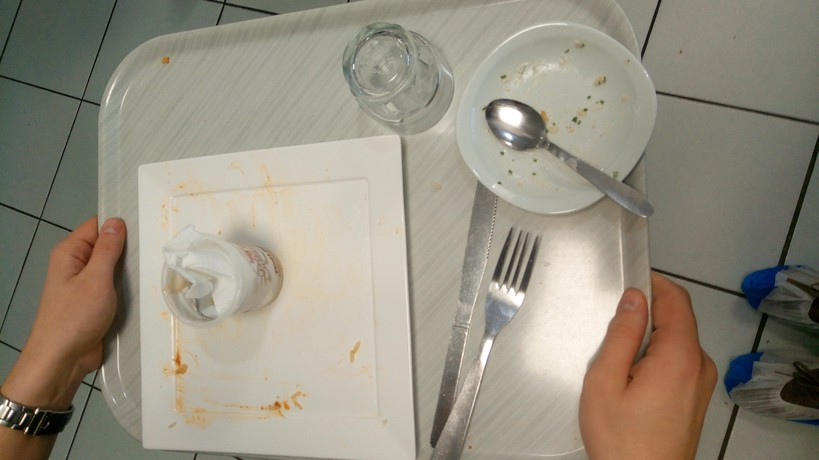cup: (329, 13, 463, 142)
cutlery: (452, 189, 545, 460), (481, 91, 658, 223)
trash: (163, 237, 296, 332)
